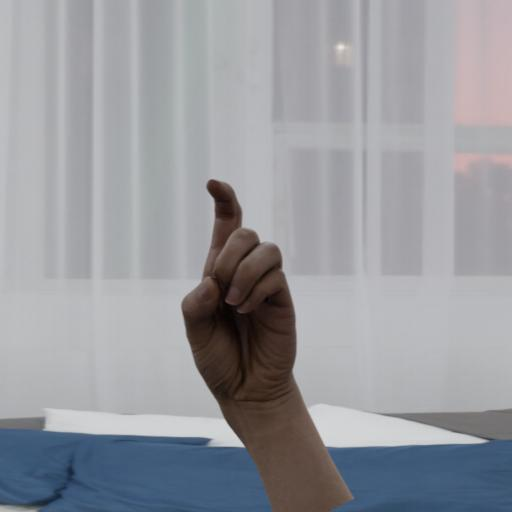X: (178, 175, 310, 455)
